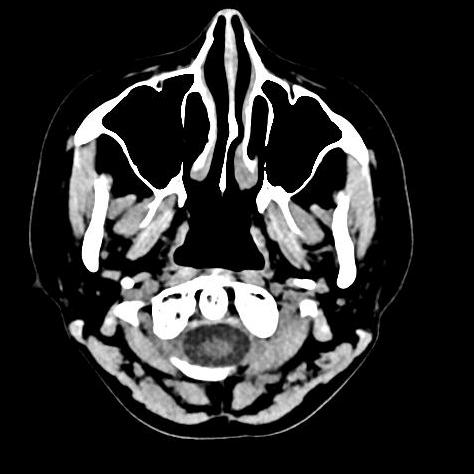Normal_Brain: (1, 1, 474, 474)
